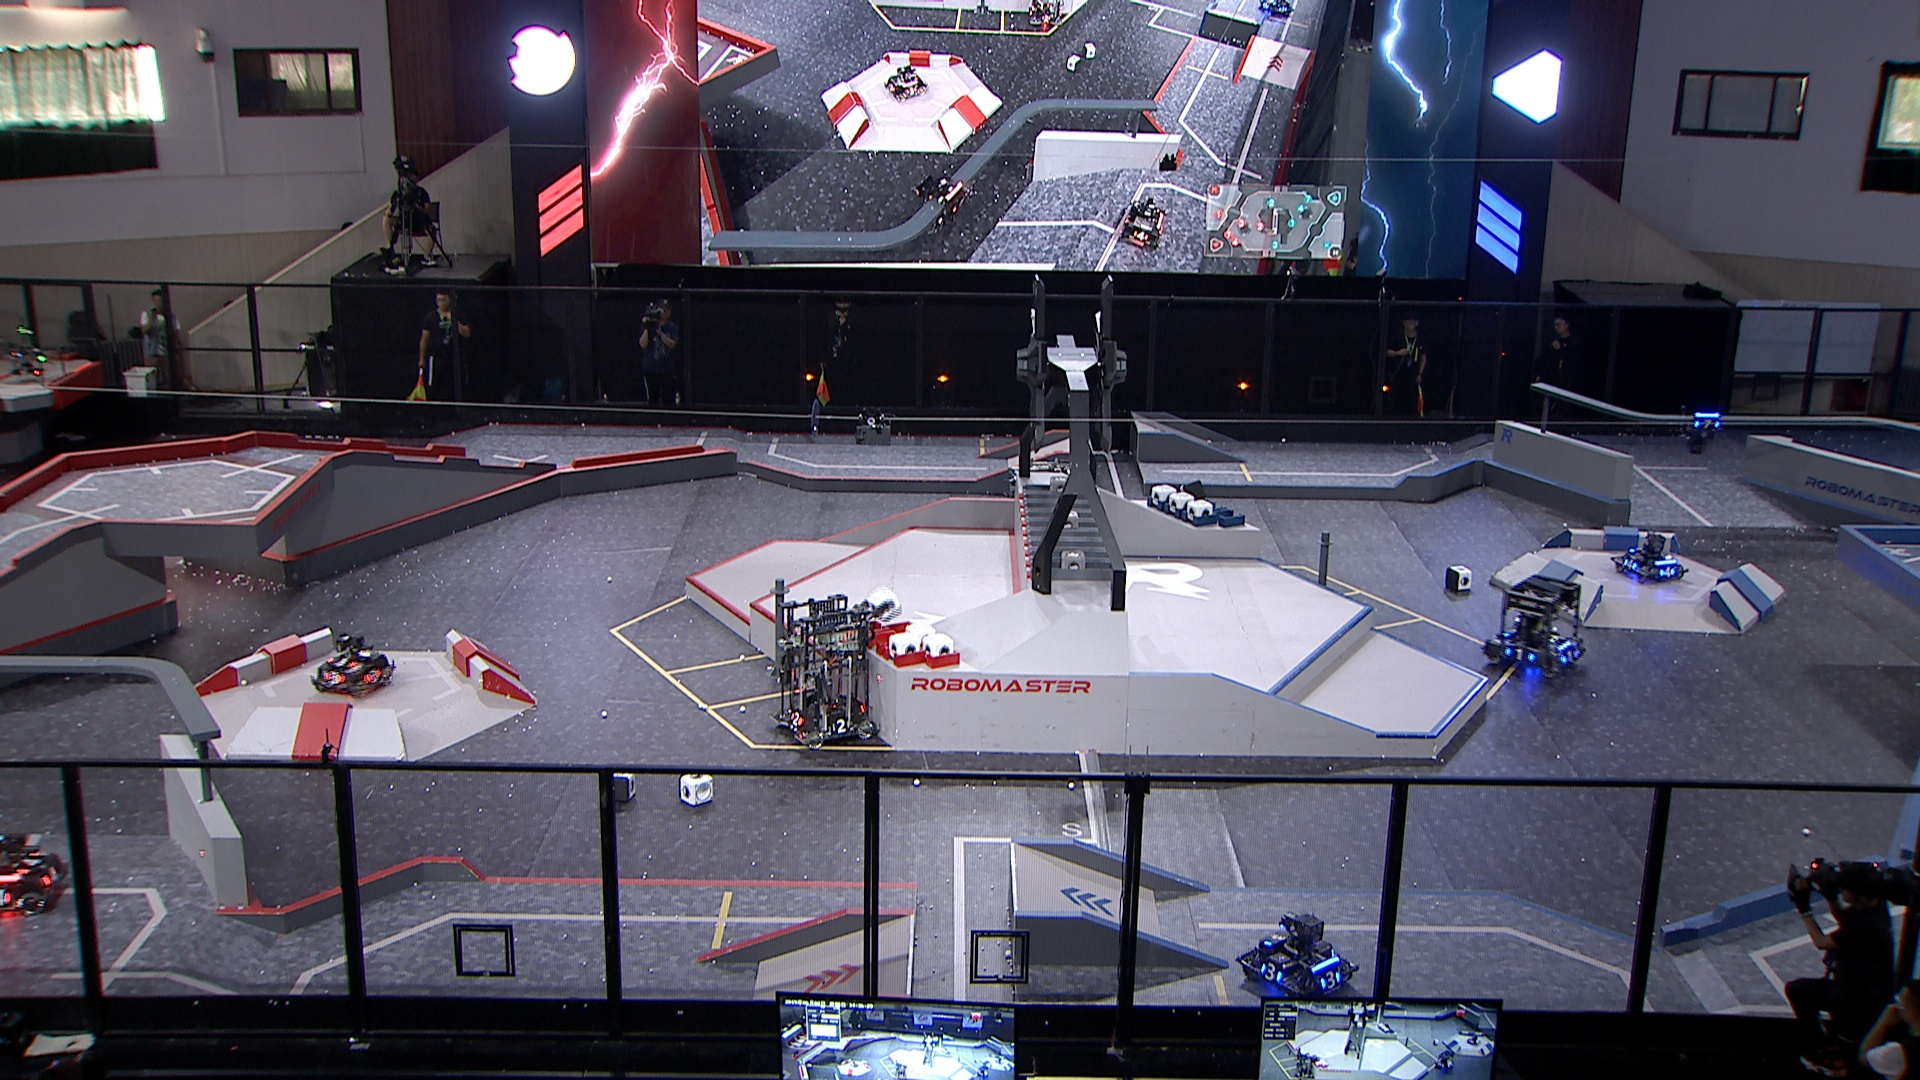armor: (15, 851, 44, 874), (1501, 647, 1534, 662), (1320, 967, 1342, 988), (1265, 928, 1287, 949), (1259, 963, 1282, 982), (44, 864, 63, 884), (320, 669, 342, 684), (828, 719, 851, 733), (363, 666, 380, 683), (1561, 647, 1577, 665), (328, 655, 352, 666), (1695, 418, 1717, 429), (1622, 556, 1636, 571), (1501, 624, 1516, 637), (1660, 564, 1675, 578), (790, 712, 802, 727)
car: (765, 593, 884, 746), (1481, 572, 1589, 680), (1236, 915, 1360, 1006), (309, 632, 396, 700), (1609, 531, 1688, 585)
ignore: (911, 171, 975, 229), (1116, 195, 1167, 247), (884, 59, 930, 105), (1291, 1052, 1319, 1080), (1429, 1048, 1456, 1071), (887, 1060, 910, 1080), (973, 1060, 994, 1080), (1465, 1030, 1481, 1044)
watcher: (1676, 398, 1724, 456)
